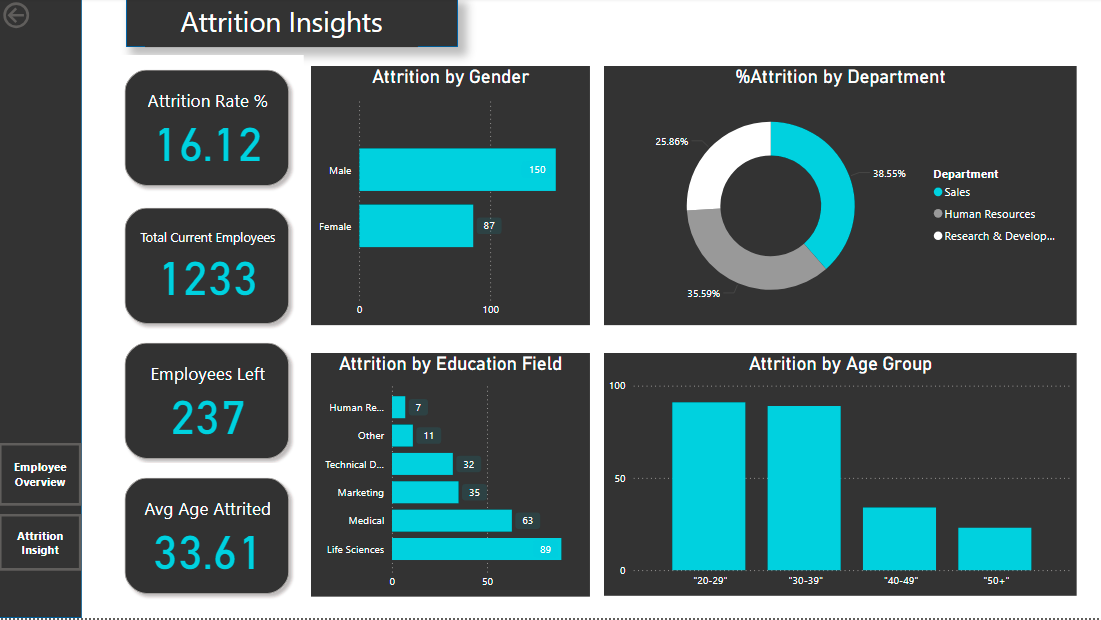

Layout of this report page (visuals, bound fields, positions):
{"tool":"powerbi","page":{"name":"Attrition Insights","canvas":[1280,720],"ordinal":1},"visuals":[{"type":"group","id":"g1","title":"navBar","box":[0,0,96.4,720.1],"z":0},{"type":"shape","box":[0,0,96.4,720.1],"z":0,"group":"g1"},{"type":"actionButton","box":[0,0,100,40],"z":1000},{"type":"actionButton","title":"Employee Overview","box":[0,516.8,95.8,72.8],"z":1000,"group":"g1"},{"type":"shape","box":[147.5,0,385.6,56.9],"z":2000},{"type":"actionButton","box":[0,599.6,95.8,65.8],"z":2000,"group":"g1"},{"type":"textbox","box":[169.6,0,317.1,56.9],"z":3000},{"type":"cardVisual","fields":{"Data":["Measure Table.Attrition Rate %"]},"box":[128.9,66.2,225.3,169.6],"z":4000},{"type":"cardVisual","fields":{"Data":["Measure Table.Attrition by Department"]},"box":[128.9,383.3,225.3,169.6],"z":5000},{"type":"cardVisual","fields":{"Data":["Measure Table.Total Current Employees"]},"box":[128.9,226.5,225.3,169.6],"z":6000},{"type":"cardVisual","fields":{"Data":["Measure Table.Avg Age Attrited"]},"box":[128.9,540.1,225.3,169.6],"z":7000},{"type":"donutChart","title":"%Attrition by Department","fields":{"Category":["HR_Employee.Department"],"Y":["Measure Table.Attrition Rate %"]},"box":[702.7,79,549.4,300.8],"z":8000},{"type":"columnChart","title":"Attrition by Age Group","fields":{"Y":["Measure Table.Attrition by Department"],"Category":["HR_Employee.Age Group"]},"box":[702.7,412.3,549.4,282.3],"z":8001},{"type":"clusteredBarChart","title":"Attrition by Gender","fields":{"Category":["HR_Employee.Gender"],"Y":["Measure Table.Attrition by Department"]},"box":[362.4,79,324.1,300.8],"z":8002},{"type":"barChart","title":"Attrition by Education Field","fields":{"Category":["HR_Employee.EducationField"],"Y":["Measure Table.Attrition by Department"]},"box":[362.4,412.3,324.1,283.4],"z":8003}]}

Visuals, with their boxes on the page's 1280x720 design canvas (x1, y1, x2, y2). These are canvas units, not pixel positions in the 1101x620 screenshot, which may show the page scaled, cropped or inside an application window:
"navBar" group: Rect(0, 0, 96, 720)
shape: Rect(0, 0, 96, 720)
actionButton: Rect(0, 0, 100, 40)
"Employee Overview" actionButton: Rect(0, 517, 96, 590)
shape: Rect(148, 0, 533, 57)
actionButton: Rect(0, 600, 96, 665)
textbox: Rect(170, 0, 487, 57)
cardVisual - Measure Table.Attrition Rate %: Rect(129, 66, 354, 236)
cardVisual - Measure Table.Attrition by Department: Rect(129, 383, 354, 553)
cardVisual - Measure Table.Total Current Employees: Rect(129, 226, 354, 396)
cardVisual - Measure Table.Avg Age Attrited: Rect(129, 540, 354, 710)
"%Attrition by Department" donutChart: Rect(703, 79, 1252, 380)
"Attrition by Age Group" columnChart: Rect(703, 412, 1252, 695)
"Attrition by Gender" clusteredBarChart: Rect(362, 79, 686, 380)
"Attrition by Education Field" barChart: Rect(362, 412, 686, 696)
